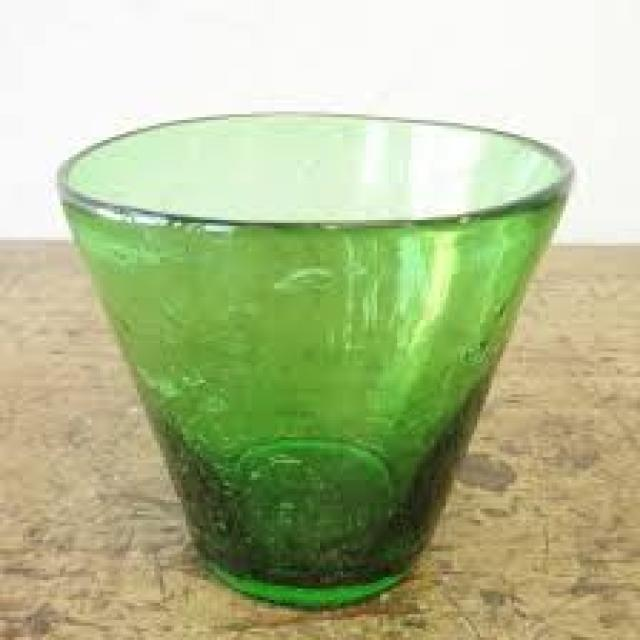glass: (54, 112, 569, 609)
